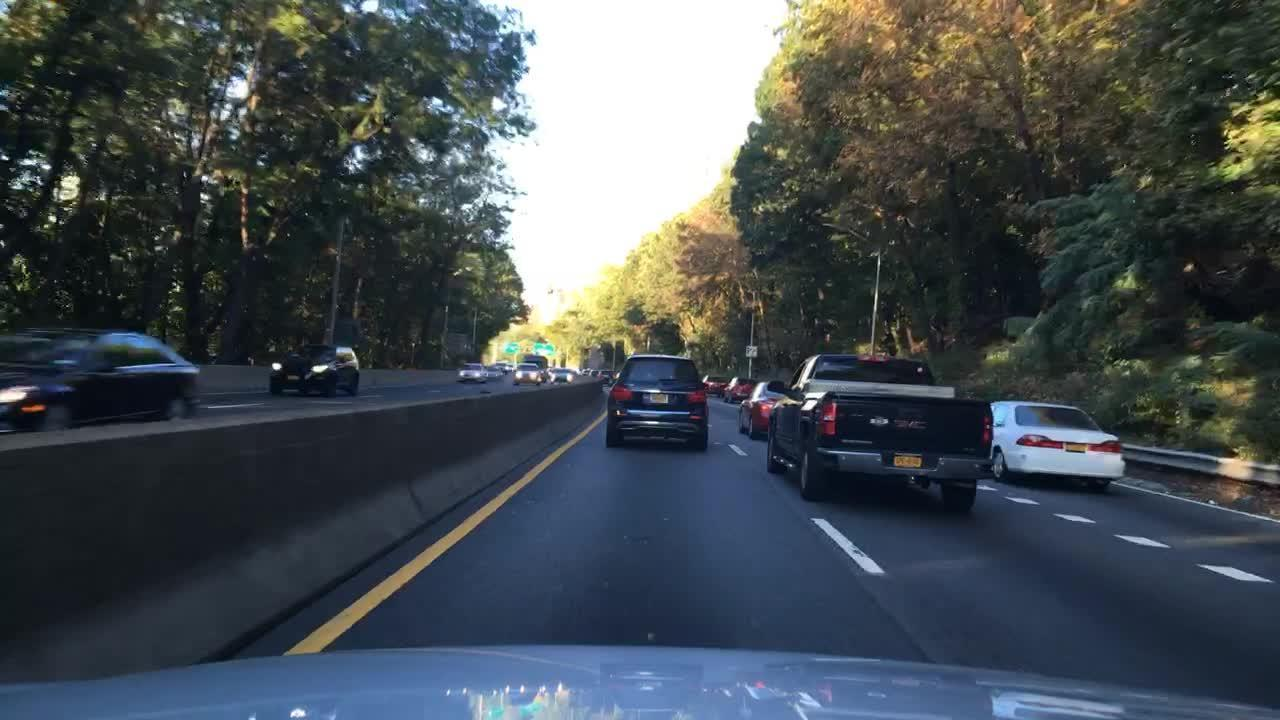GMC: (888, 415, 927, 434)
